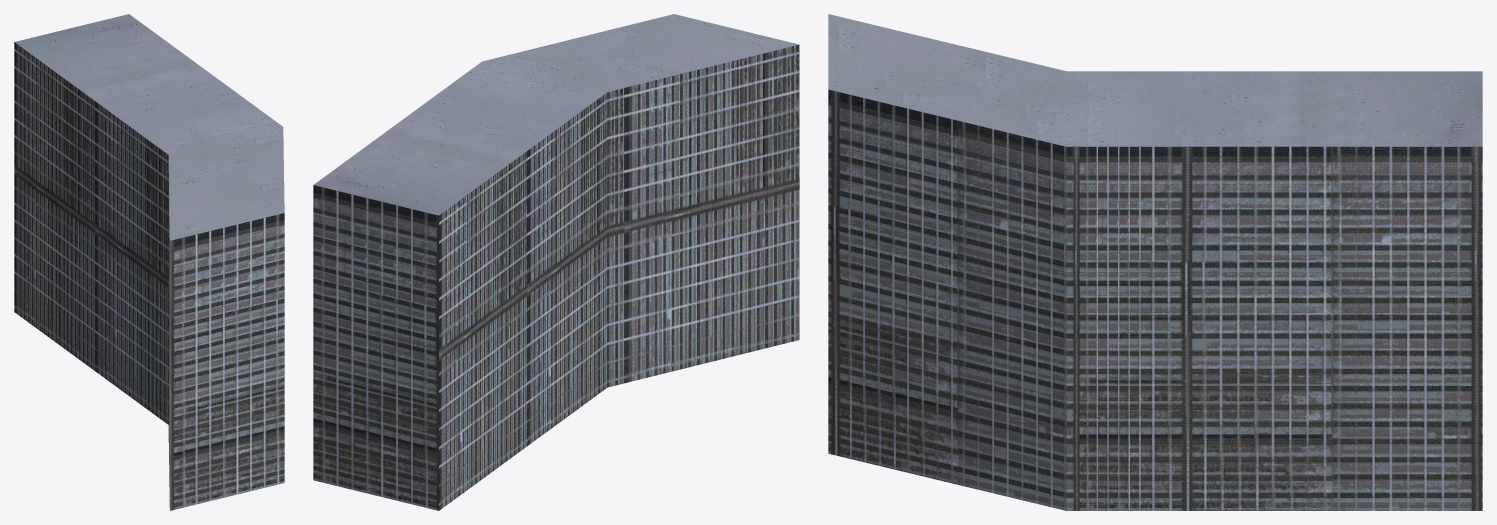
File: Skyscraper.fbx
The picture shows the model from 3 angles, left to right: view 1: azimuth 30°, elevation 25°; view 2: azimuth 150°, elevation 25°; view 3: azimuth 270°, elevation 25°; orthographic projection. The views are drawn at different scales.
Parts seen in each view (by area): view 1: Building; view 2: Building; view 3: Building.
Boxes of the visible parts, x1=… form: Building: x1=14, y1=14, x2=284, y2=510; Building: x1=313, y1=14, x2=799, y2=510; Building: x1=828, y1=14, x2=1482, y2=510.
Bounding box in the file's own units: 20.36 × 26.03 × 42.38.
Materials: 2 (2 with a texture image).
